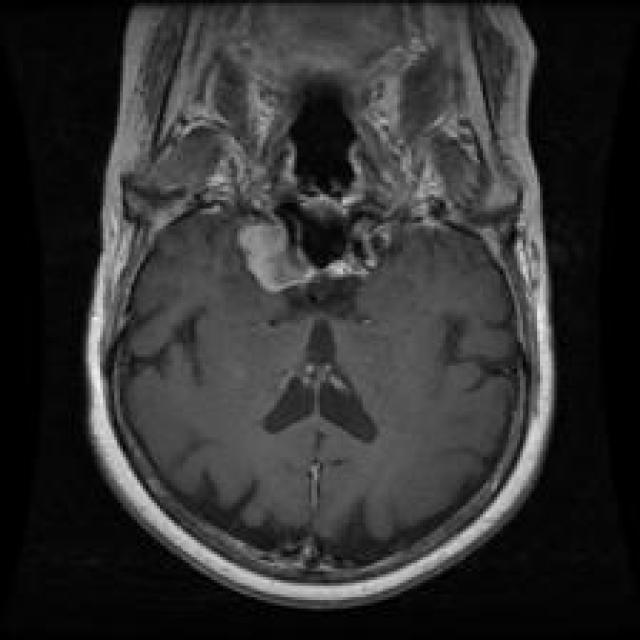meningioma_tumor: (220, 207, 334, 304)
